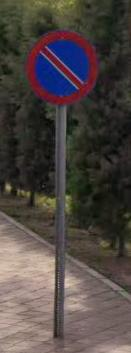nopark: (25, 30, 101, 105)
